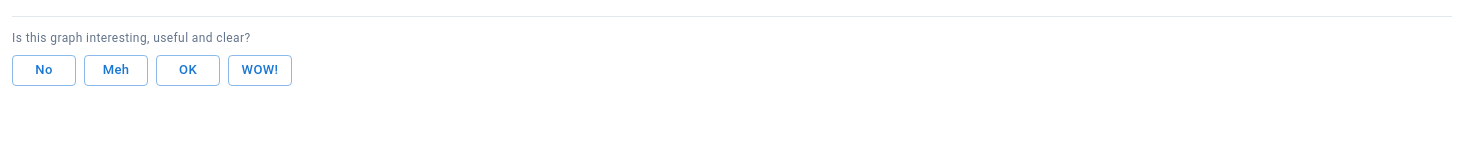
Test: GraphFeedback › tracks optional free text as its own event, separate from the rating
Click the radio button labelled "Meh".
click(116, 70)  # box [84,55,148,86]
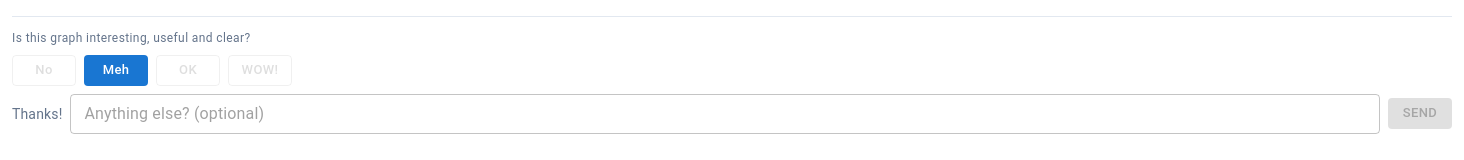
Type "The legend took a while to make sense of." into the field named "Additional feedback".
click(725, 114); type("The legend took a while to make sense of.")  # box [70,94,1380,134]
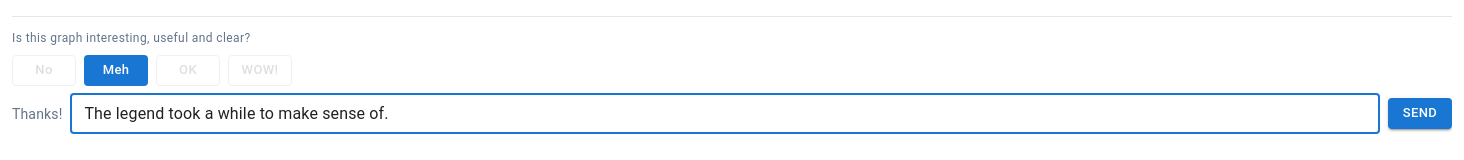
Click the button "Send".
click(1420, 114)  # box [1388,98,1452,129]
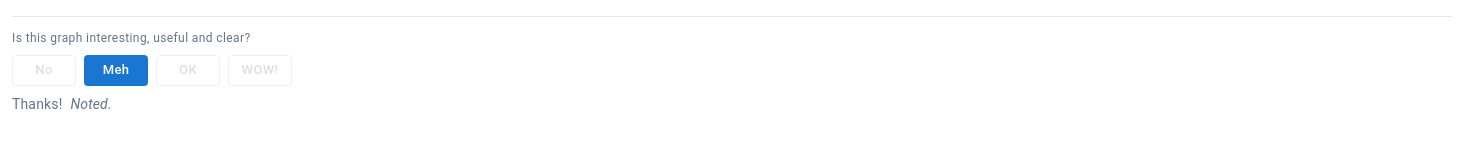
Expected: the text "Noted." is shown, [70,94,112,114]
